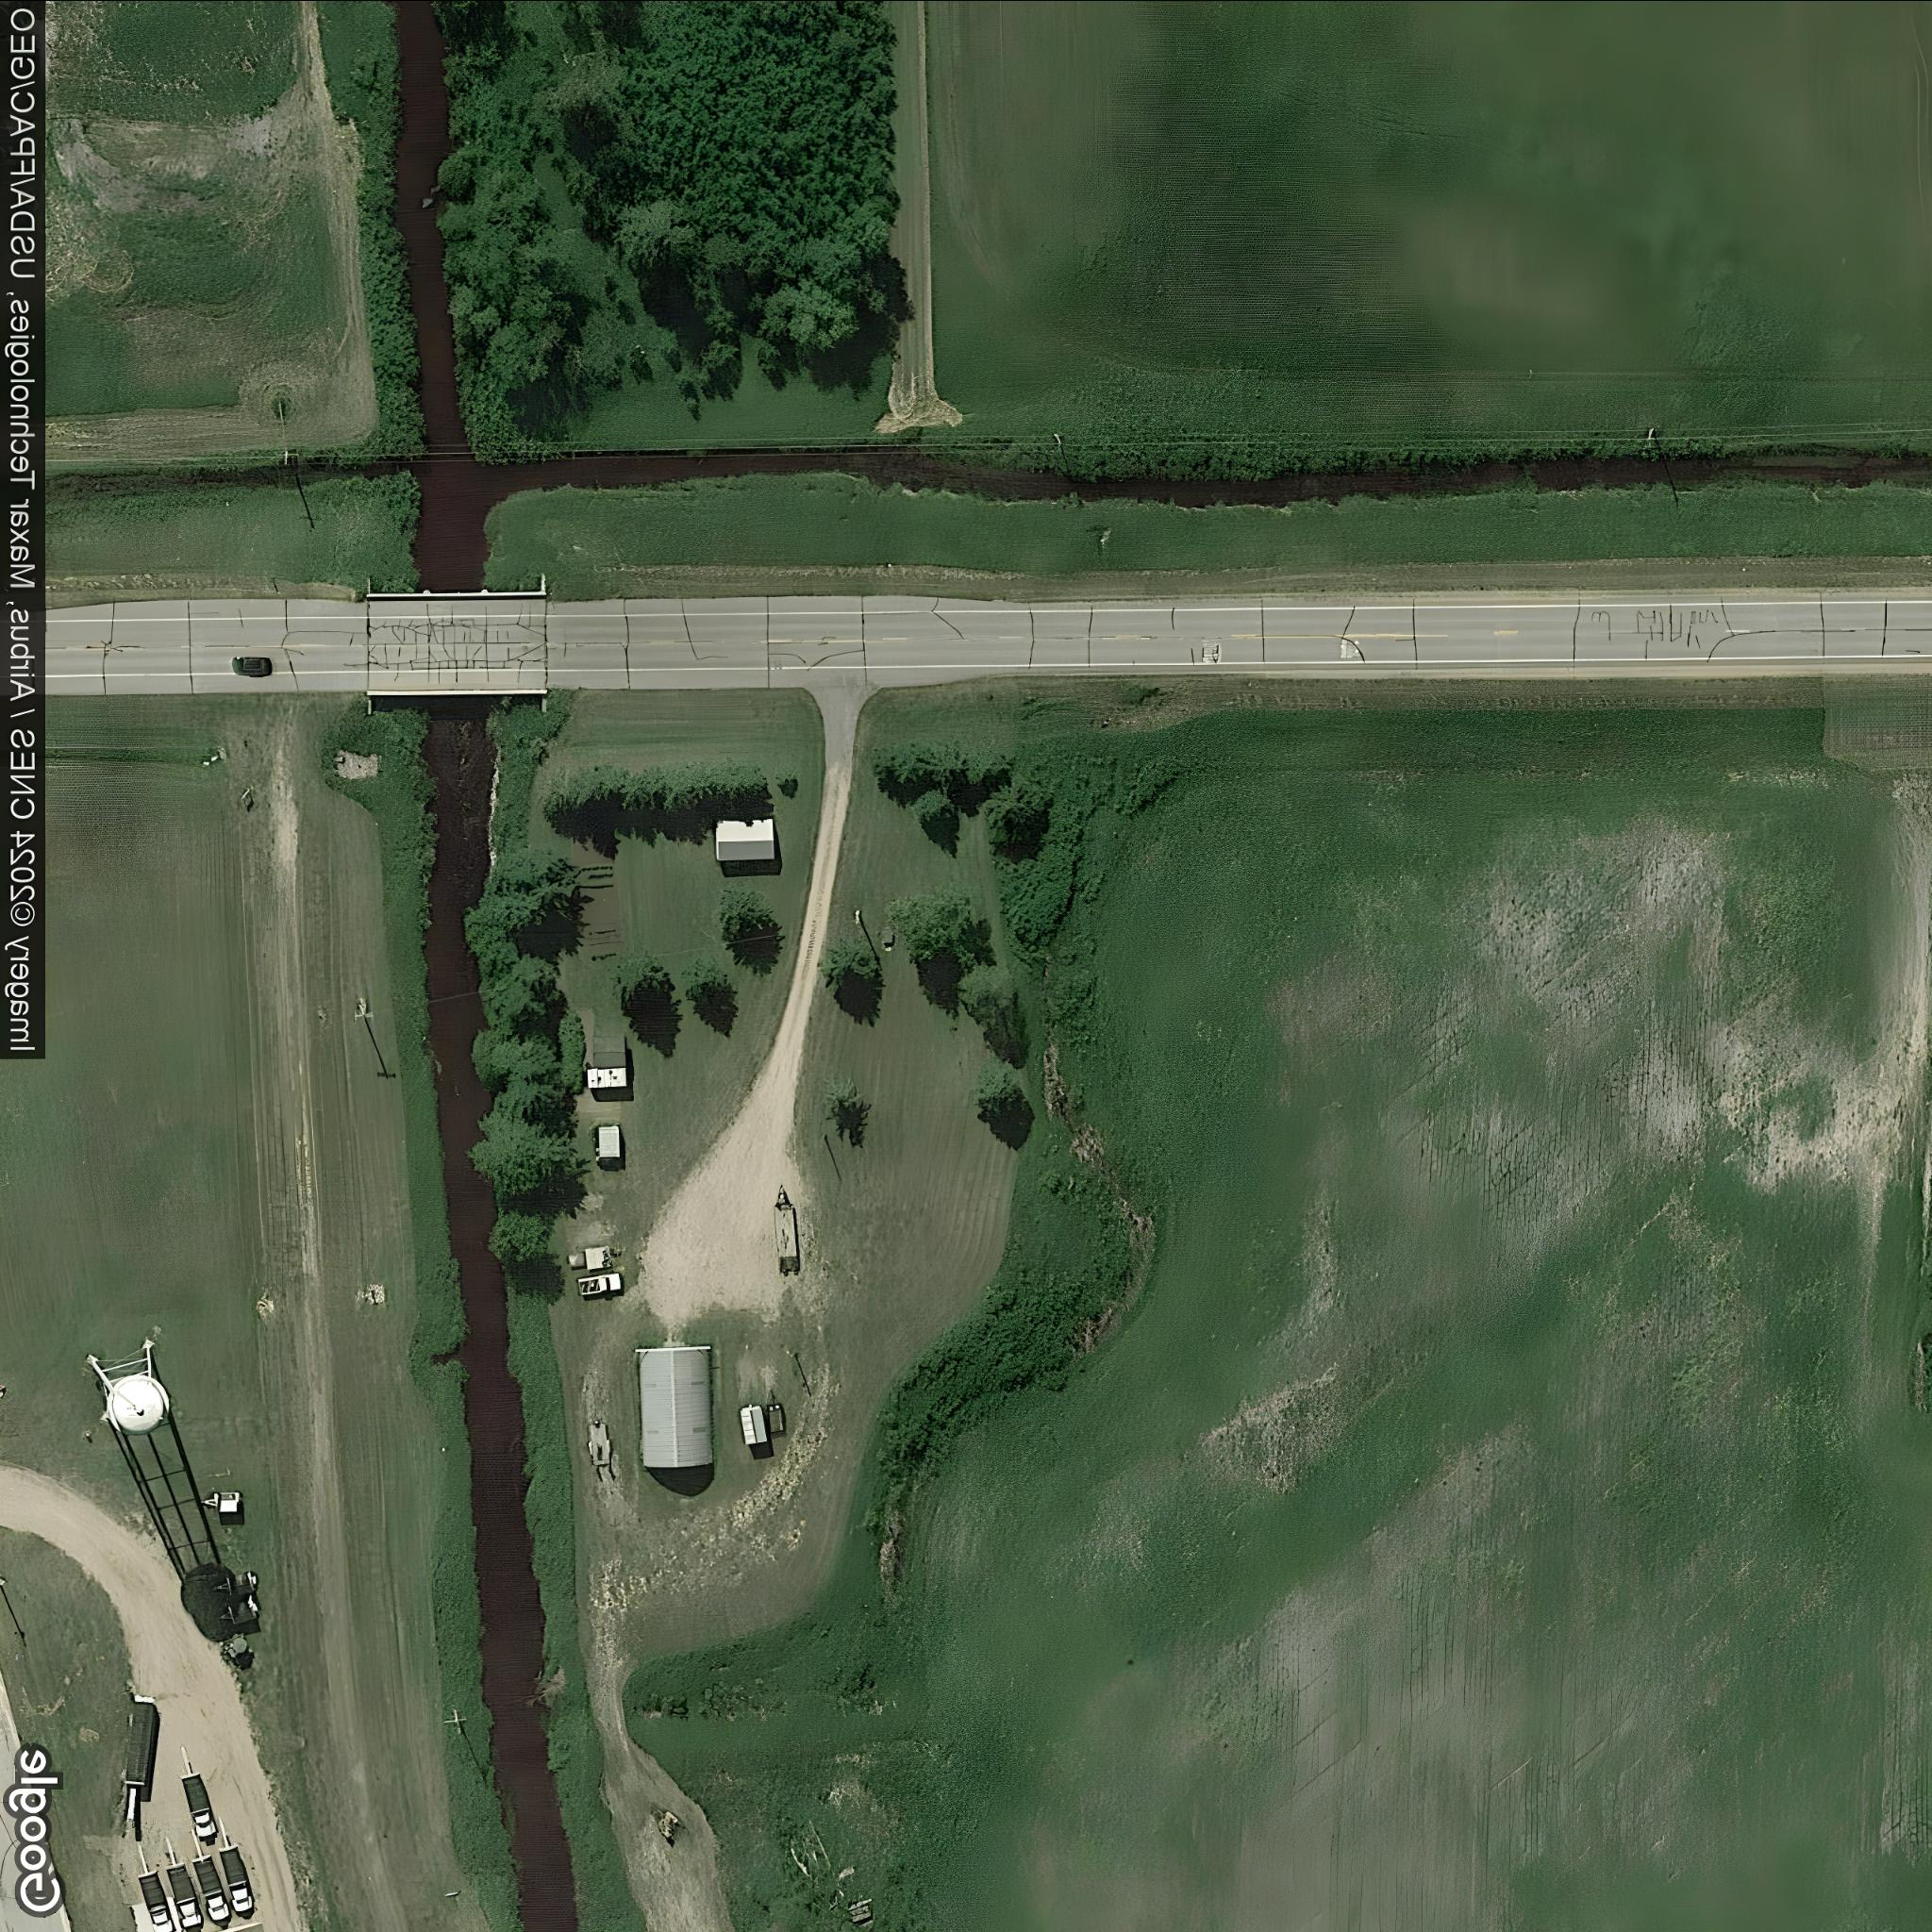Garage: (633, 1343, 715, 1467), (715, 817, 773, 858)
